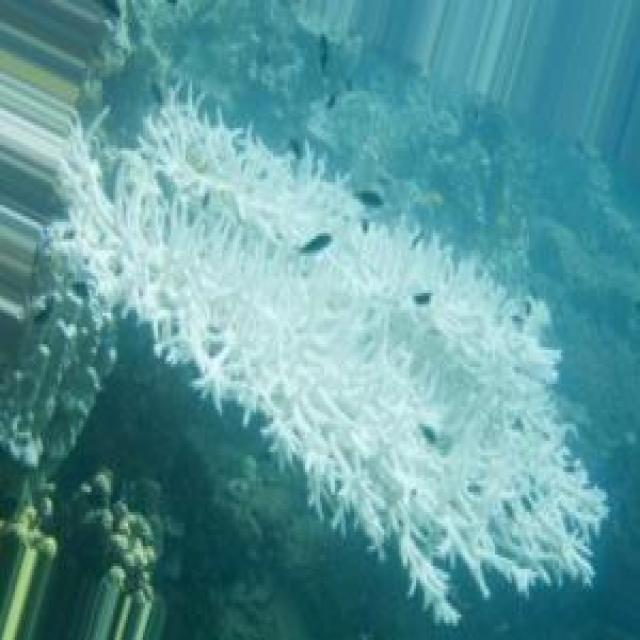bleached coral: (111, 171, 279, 270), (273, 410, 422, 509), (510, 458, 608, 583), (309, 253, 420, 356), (203, 154, 358, 219), (181, 304, 290, 390), (433, 341, 523, 441), (427, 492, 506, 589), (420, 262, 510, 319)
healthy coral: (145, 0, 324, 77), (282, 521, 375, 640), (380, 80, 484, 165), (508, 171, 578, 276), (60, 475, 126, 586), (186, 472, 239, 600)
